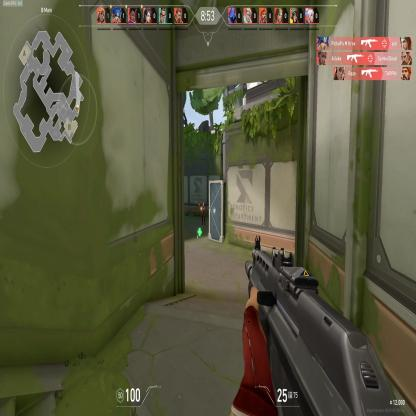enemy: (200, 202, 206, 227)
